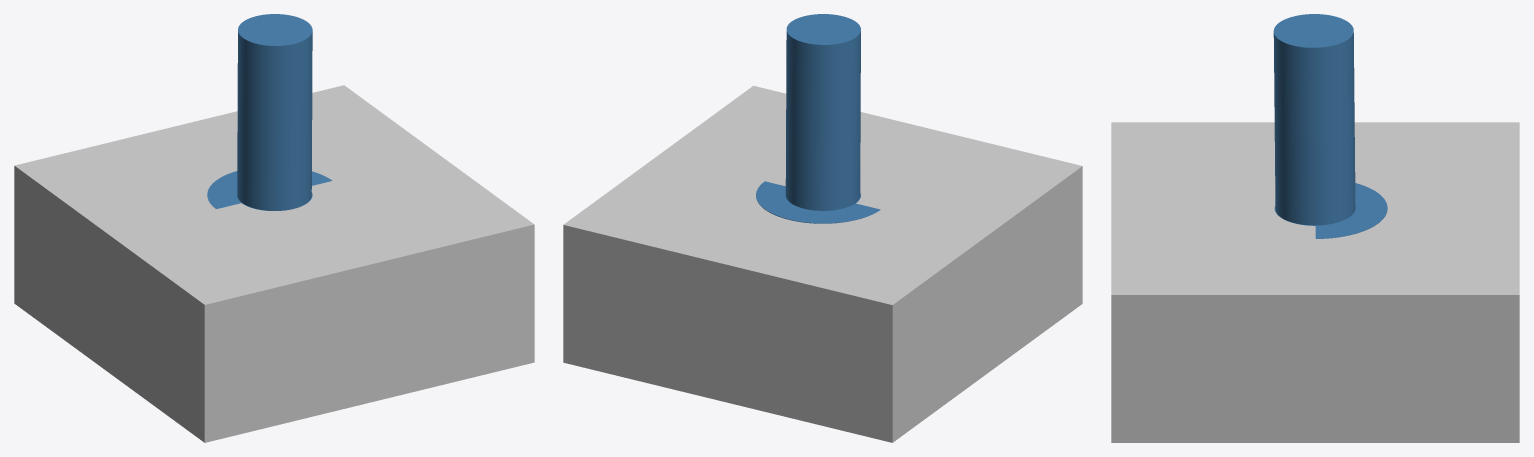
Rendered from rafine_montaj_ornegi.gltf.
3 views of the same model, side by side, from view 1: azimuth 30°, elevation 25°; view 2: azimuth 150°, elevation 25°; view 3: azimuth 270°, elevation 25° (orthographic). The views are drawn at different scales.
Parts seen in each view (by area): view 1: blok_parcasi_part, pim_parcasi_part; view 2: blok_parcasi_part, pim_parcasi_part; view 3: blok_parcasi_part, pim_parcasi_part.
Part boxes in pixels (x1,y1,x2,y2): blok_parcasi_part: (14,85,534,442); pim_parcasi_part: (207,14,332,210); blok_parcasi_part: (563,85,1082,442); pim_parcasi_part: (756,14,880,223); blok_parcasi_part: (1111,122,1519,442); pim_parcasi_part: (1273,14,1387,238).
Size of the model in its own units: 50 by 44.04 by 50.
